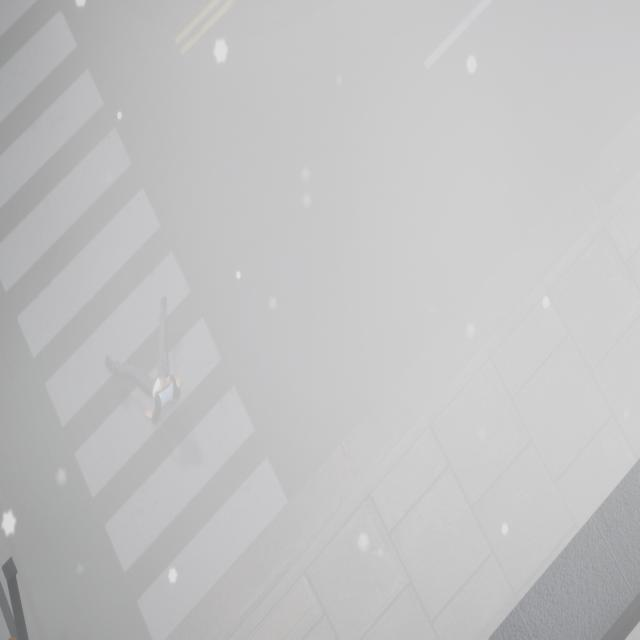Human: (98, 276, 187, 438)
